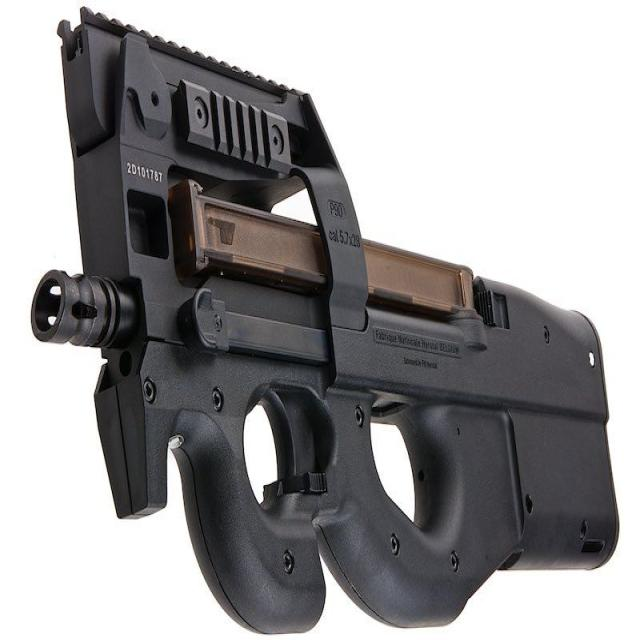Gun: (32, 0, 614, 638)
